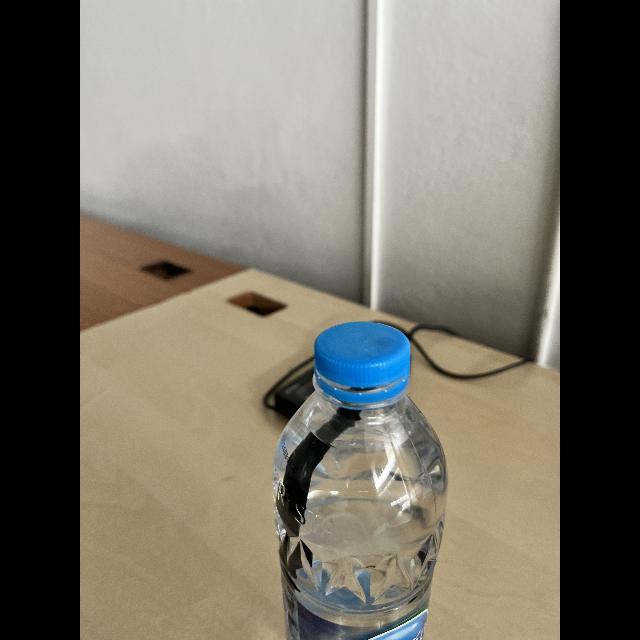plastic_bottle_cap: (312, 318, 410, 387)
